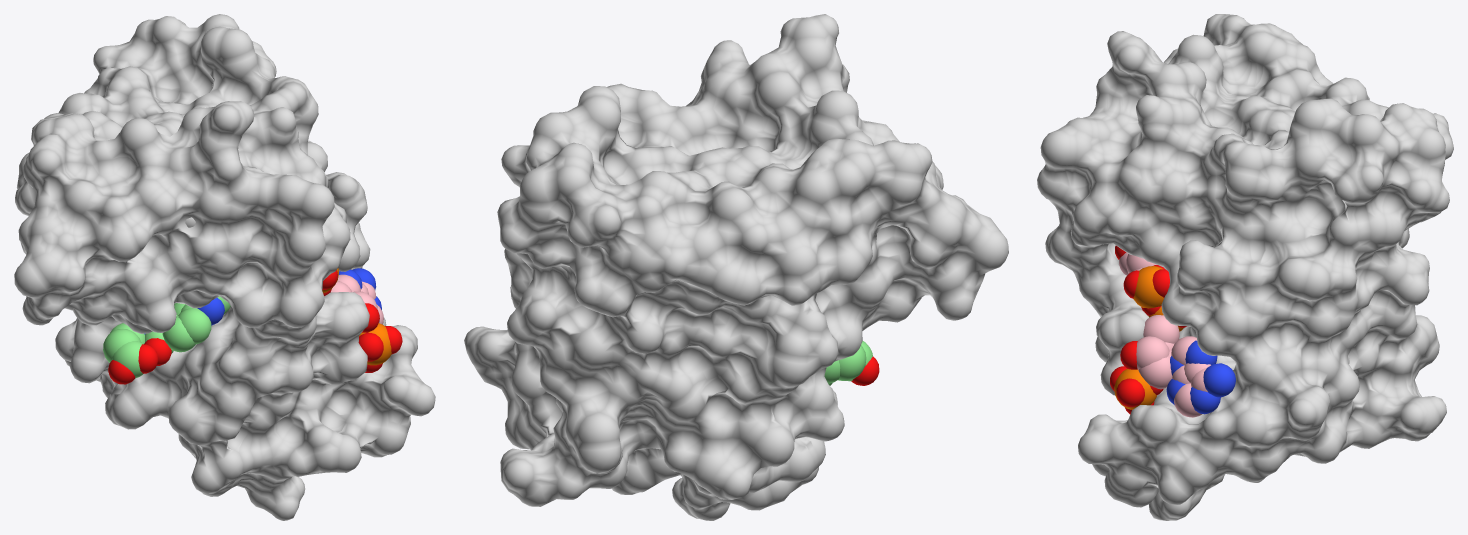
Rendered from Folate+NADPH+DHFR.dae.
The picture shows the model from 3 angles, left to right: view 1: azimuth 30°, elevation 25°; view 2: azimuth 150°, elevation 25°; view 3: azimuth 270°, elevation 25°; orthographic projection. The views are drawn at different scales.
Visible parts, largest first — view 1: subnode_80, subnode_16, subnode_15, subnode_26, subnode_25, subnode_79; view 2: subnode_80, subnode_25; view 3: subnode_80, subnode_49, subnode_55, subnode_39, subnode_36, subnode_41, subnode_78, subnode_76, subnode_50, subnode_51.
Part boxes in pixels (x1,y1,x2,y2): subnode_80: [14, 14, 435, 520]; subnode_16: [178, 308, 211, 344]; subnode_15: [162, 316, 195, 352]; subnode_26: [111, 341, 143, 378]; subnode_25: [103, 329, 141, 362]; subnode_79: [358, 332, 383, 361]; subnode_80: [464, 14, 1008, 520]; subnode_25: [838, 345, 866, 380]; subnode_80: [1037, 14, 1453, 520]; subnode_49: [1203, 363, 1235, 397]; subnode_55: [1133, 266, 1163, 308]; subnode_39: [1136, 336, 1169, 369]; subnode_36: [1143, 315, 1179, 343]; subnode_41: [1138, 356, 1172, 389]; subnode_78: [1116, 378, 1144, 407]; subnode_76: [1114, 369, 1156, 409]; subnode_50: [1190, 387, 1220, 414]; subnode_51: [1174, 383, 1201, 417].
Size of the model in its own units: 45.16 by 46.89 by 39.52.
